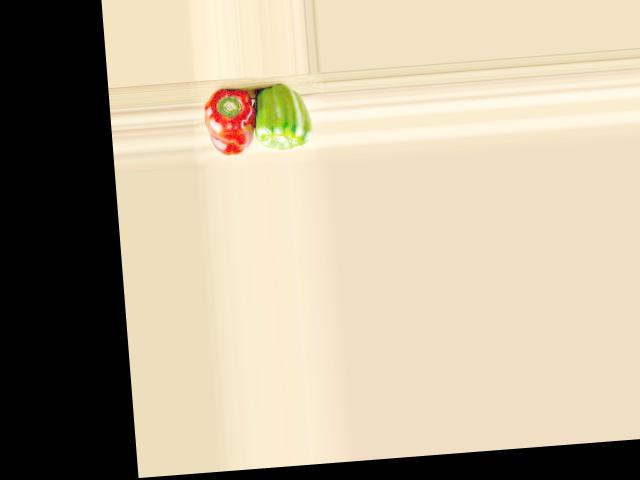bell_pepper: (201, 87, 260, 157)
